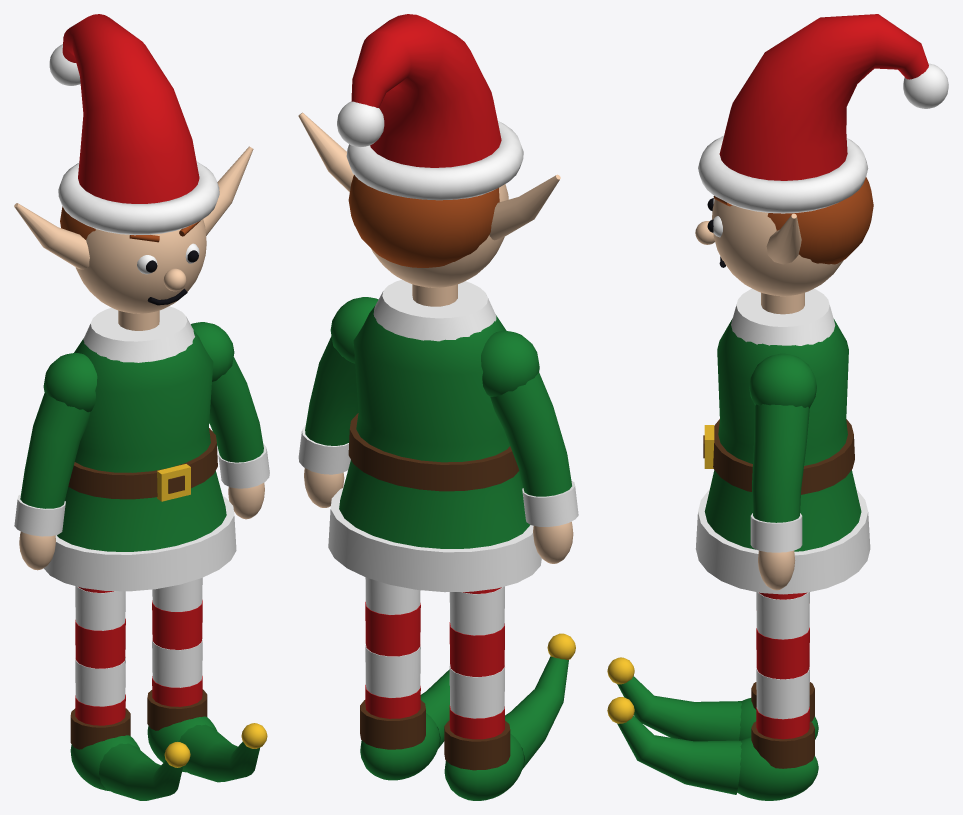
File: ChristmasElf (1).fbx
3 views of the same model, side by side, from view 1: azimuth 30°, elevation 25°; view 2: azimuth 150°, elevation 25°; view 3: azimuth 270°, elevation 25° (orthographic). The views are drawn at different scales.
Parts seen in each view (by area): view 1: ChristmasElf; view 2: ChristmasElf; view 3: ChristmasElf.
Part boxes in pixels (x1,y1,x2,y2): ChristmasElf: (14, 14, 269, 800); ChristmasElf: (298, 14, 578, 800); ChristmasElf: (607, 14, 948, 800).
Bounding box in the file's own units: 0.5512 × 1.53 × 0.6214.
